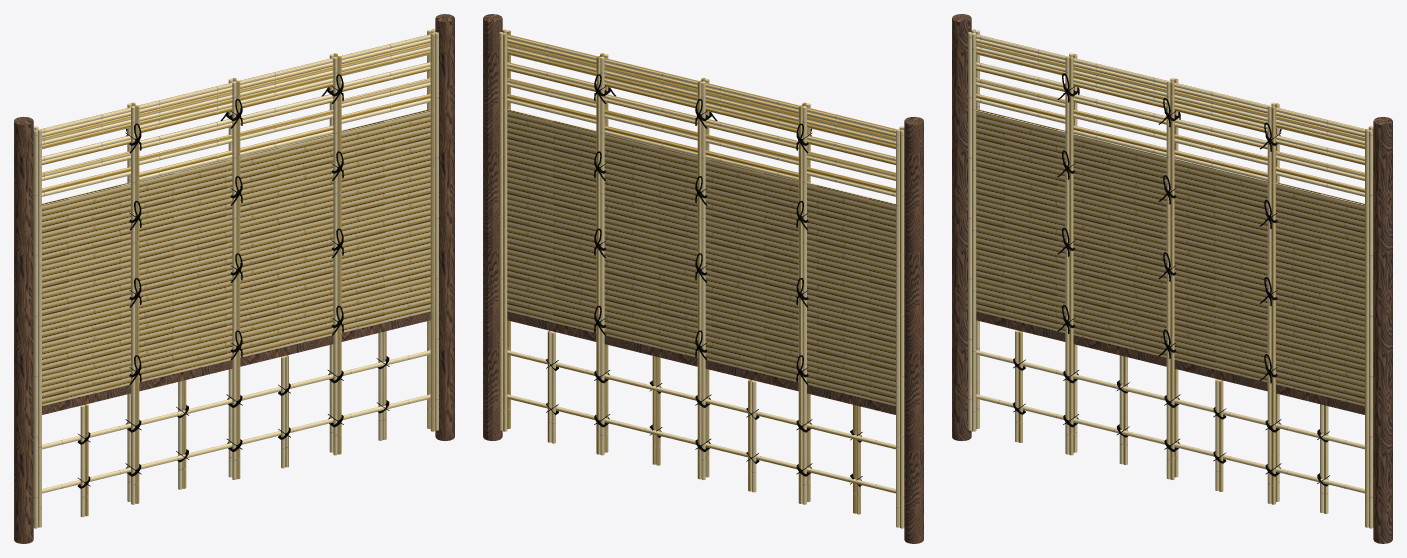
The model's file is e-banboo-kodawari-misu-yotume_nocolor.fbx.
The picture shows the model from 3 angles, left to right: view 1: azimuth 30°, elevation 25°; view 2: azimuth 150°, elevation 25°; view 3: azimuth 330°, elevation 25°; orthographic projection.
Parts seen in each view (by area): view 1: e-banboo-kodawari-misu-yotume_ivorysarasi; view 2: e-banboo-kodawari-misu-yotume_ivorysarasi; view 3: e-banboo-kodawari-misu-yotume_ivorysarasi.
Boxes of the visible parts, left/top/right/bottom form: e-banboo-kodawari-misu-yotume_ivorysarasi: left=14, top=14, right=454, bottom=543; e-banboo-kodawari-misu-yotume_ivorysarasi: left=483, top=14, right=923, bottom=543; e-banboo-kodawari-misu-yotume_ivorysarasi: left=952, top=14, right=1392, bottom=543.
Size of the model in its own units: 208 by 190 by 8.58.
Materials: 5 (5 with a texture image).
